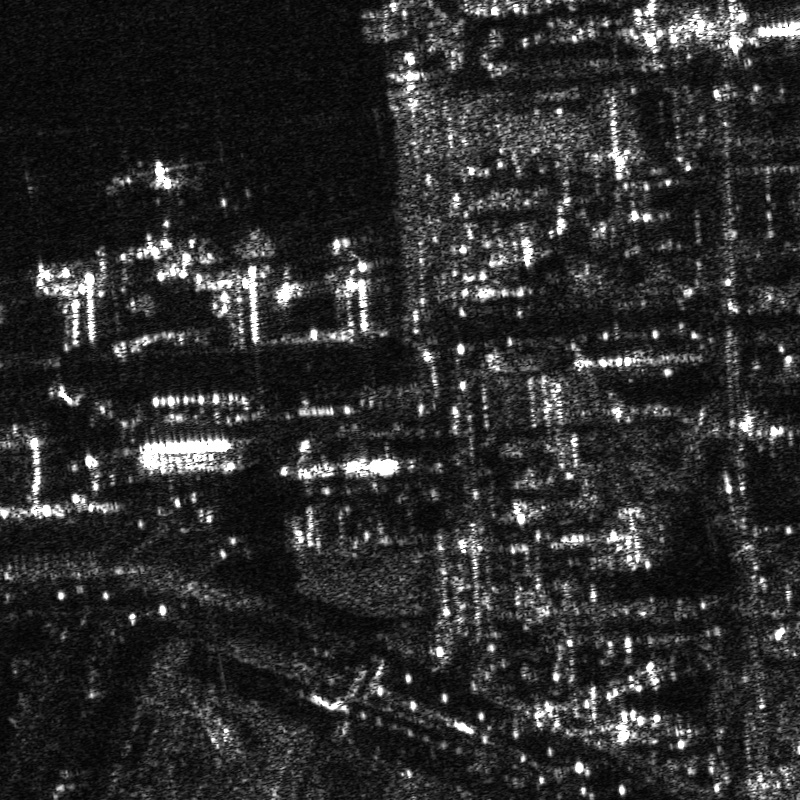Boeing787: (113, 145, 196, 210)
